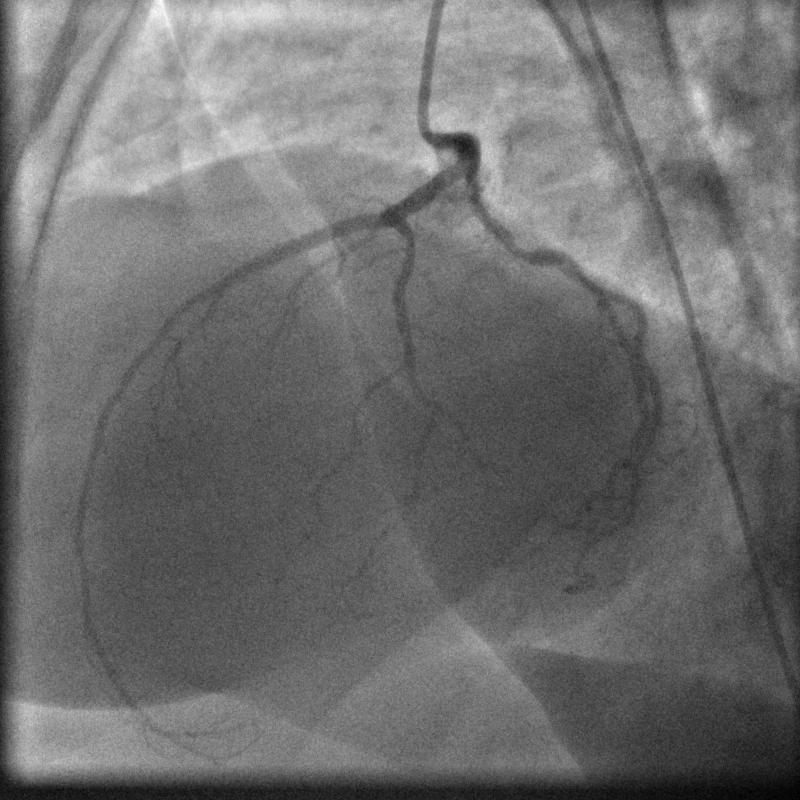Stenosis: (507, 219, 540, 277)
